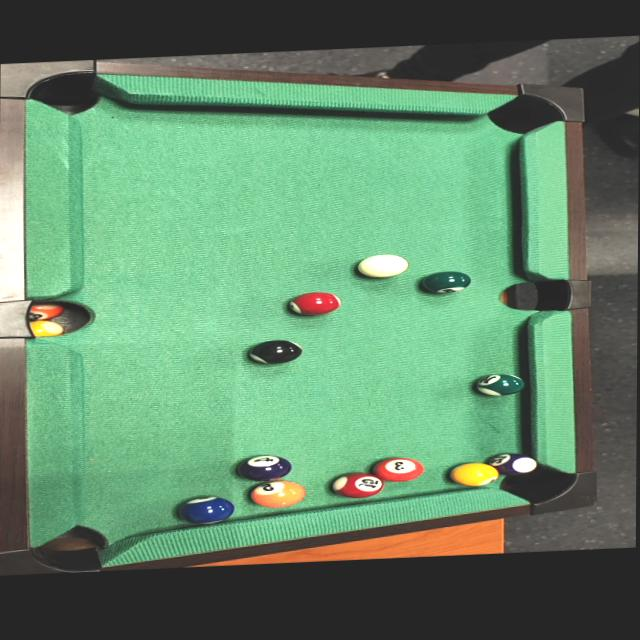cue ball: (345, 251, 410, 280)
other: (174, 492, 237, 529), (327, 467, 386, 501), (243, 480, 307, 511), (232, 452, 293, 484), (441, 459, 502, 490), (464, 371, 531, 399), (245, 336, 305, 367), (282, 289, 343, 319), (410, 269, 472, 296), (364, 456, 423, 483), (487, 451, 539, 479)
